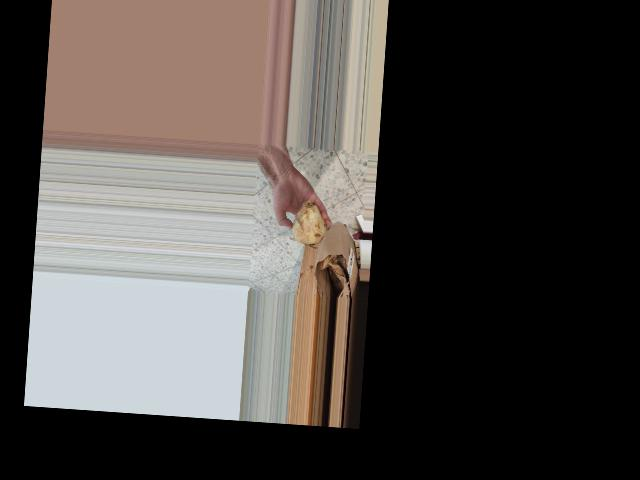onion: (290, 201, 330, 250)
